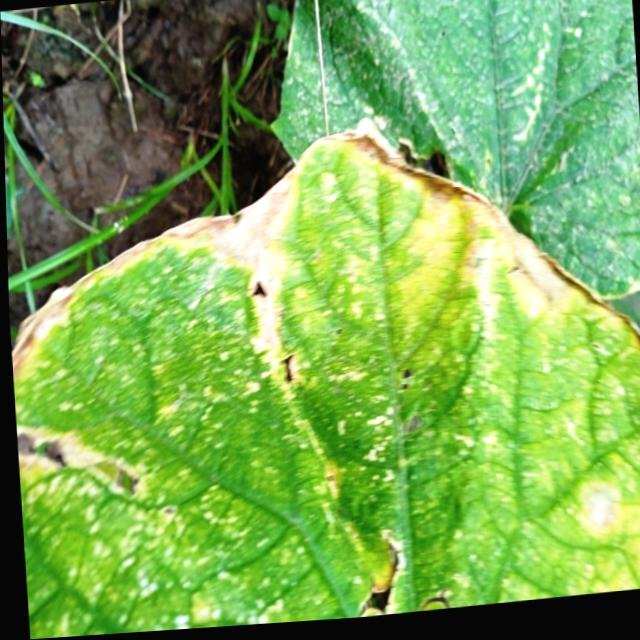Gummy-Stem-Blight: (11, 117, 584, 386)
